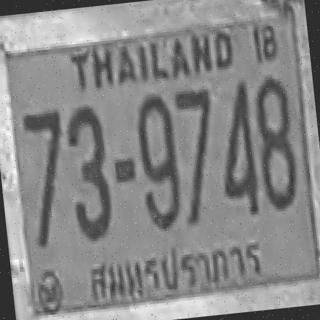N03: (62, 102, 114, 240)
N04: (211, 78, 259, 213)
N07: (172, 86, 222, 224), (21, 107, 70, 244)
N08: (251, 73, 298, 208)
N09: (132, 90, 182, 228)
P57: (82, 230, 269, 306)
